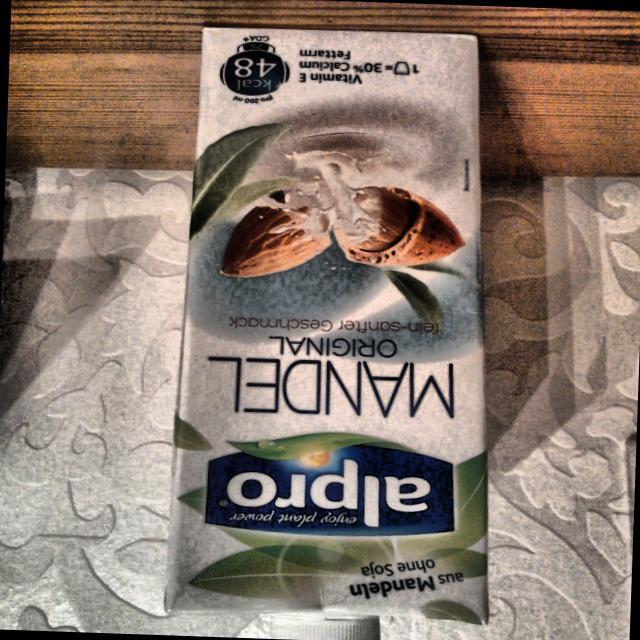cardboard: (168, 24, 510, 626)
